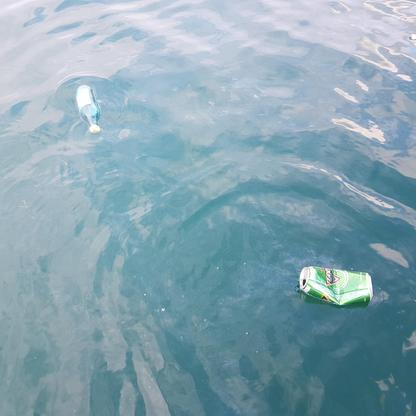can: (299, 266, 374, 305)
plastic bottle: (76, 84, 101, 135)
